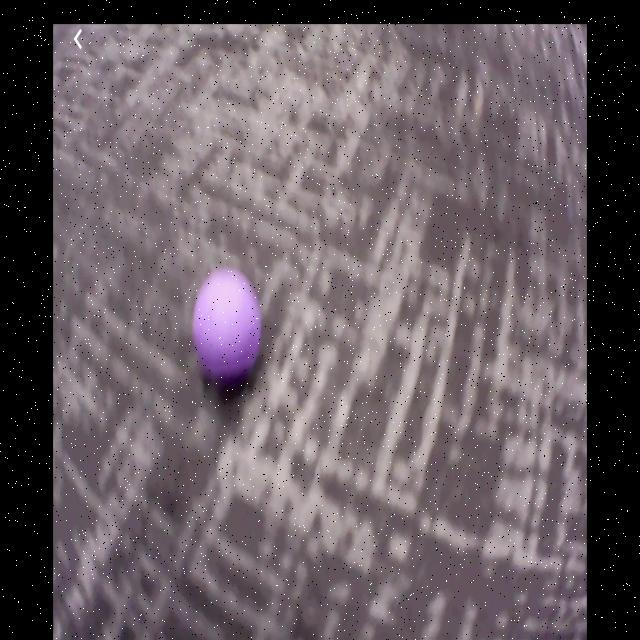ball: (194, 272, 261, 375)
